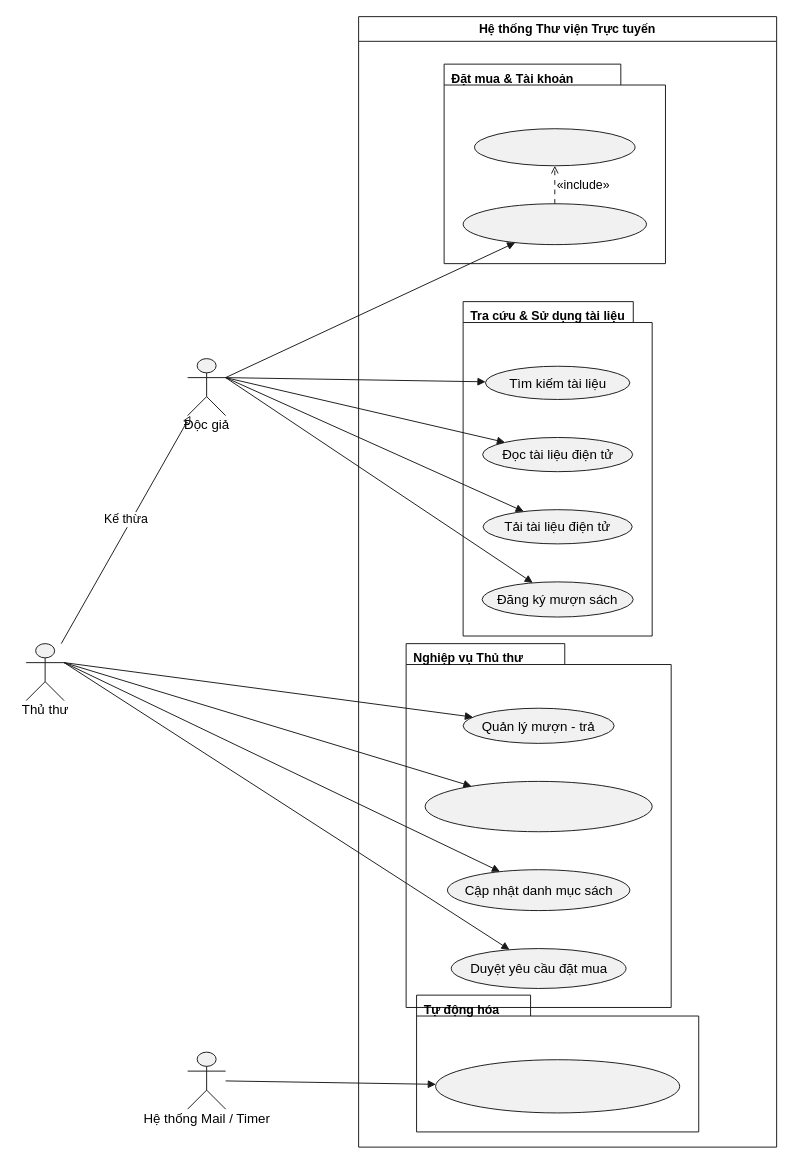
Some shapes in this 793 by 1164 pixel diagram are drawn without their labels. The centre of each missing label's shape, as x and y in pixels:
"Gửi email nhắc hạn (trước 3 ngày)" belongs at (x=557, y=1086).
"Xem tình trạng mượn / quá hạn" belongs at (x=538, y=806).
"Yêu cầu đặt mua tài liệu" belongs at (x=554, y=224).
"Đăng nhập / Đăng ký" belongs at (x=554, y=147).
